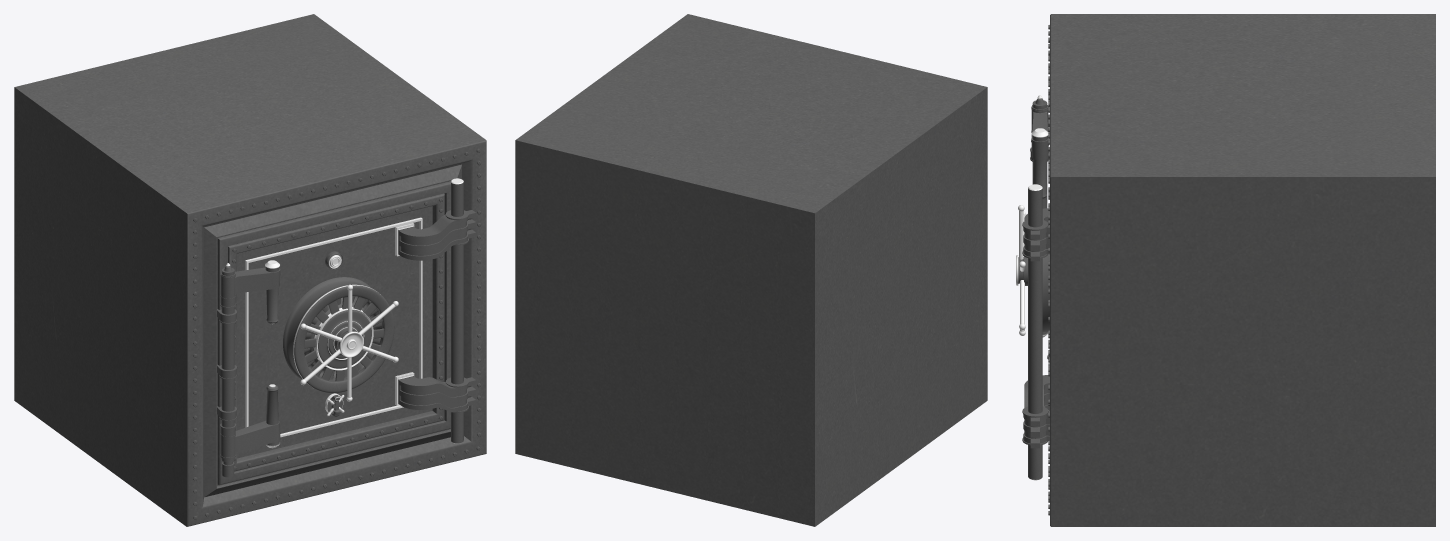
Rendered from safe_3d_model.glb.
3 renders of one model, left to right at view 1: azimuth 30°, elevation 25°; view 2: azimuth 150°, elevation 25°; view 3: azimuth 270°, elevation 25°, orthographic. The views are drawn at different scales.
Parts seen in each view (by area): view 1: Object_5, Object_3, Object_12, Object_11, Object_13, Object_20, Object_4, Object_21, Object_19, Object_18; view 2: Object_5; view 3: Object_5, Object_12, Object_11, Object_3, Object_13, Object_21.
Boxes of the visible parts, x1,y1,x2,y2 form: Object_5: (14,14,486,526); Object_3: (283,277,394,392); Object_12: (193,148,479,412); Object_11: (207,178,476,465); Object_13: (193,149,480,477); Object_20: (245,217,422,437); Object_4: (304,296,382,380); Object_21: (226,260,398,448); Object_19: (293,284,380,416); Object_18: (327,178,463,443); Object_5: (515,14,987,526); Object_5: (1018,14,1435,526); Object_12: (1022,25,1049,448); Object_11: (1022,98,1049,479); Object_3: (1018,254,1049,331); Object_13: (1030,99,1048,334); Object_21: (1019,95,1048,343).
Size of the model in its own units: 7.92 by 7.92 by 8.61.
3 materials, 2 textured.
